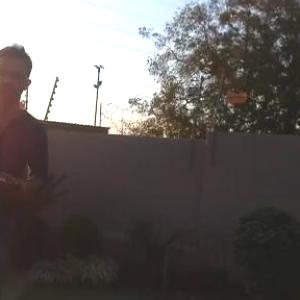follow: (0, 47, 66, 299)
